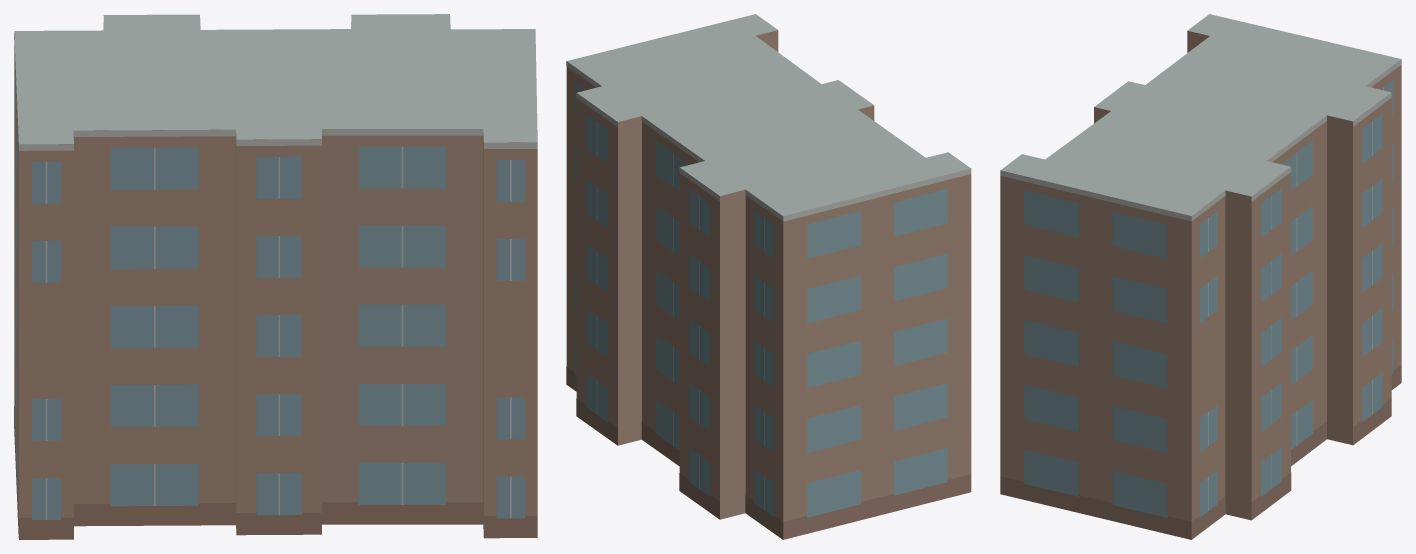
The model's file is survey-upis-32773955.glb.
The picture shows the model from 3 angles, left to right: view 1: azimuth 30°, elevation 25°; view 2: azimuth 150°, elevation 25°; view 3: azimuth 270°, elevation 25°; orthographic projection. The views are drawn at different scales.
Visible parts, largest first — view 1: survey-upis-32773955.tmp; view 2: survey-upis-32773955.tmp; view 3: survey-upis-32773955.tmp.
Boxes of the visible parts, <box> form: survey-upis-32773955.tmp: <box>14,14,537,539</box>; survey-upis-32773955.tmp: <box>566,14,971,539</box>; survey-upis-32773955.tmp: <box>1000,14,1401,539</box>.
Size of the model in its own units: 19.75 by 14.75 by 16.57.
